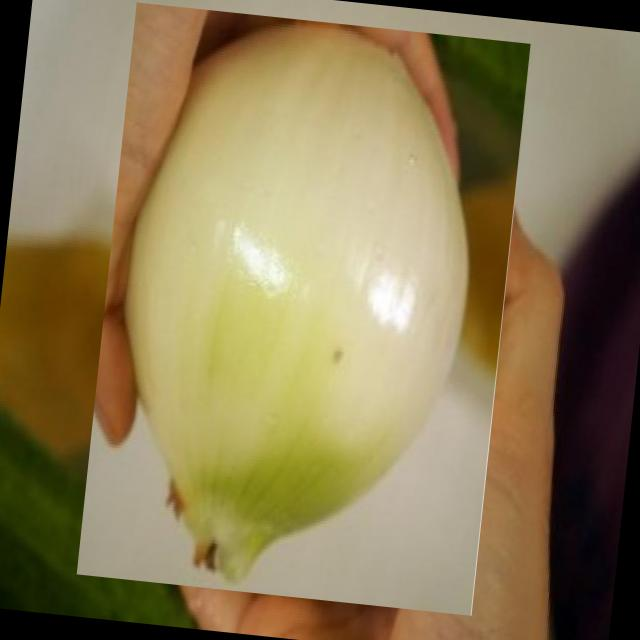Onion: (76, 1, 531, 616)
